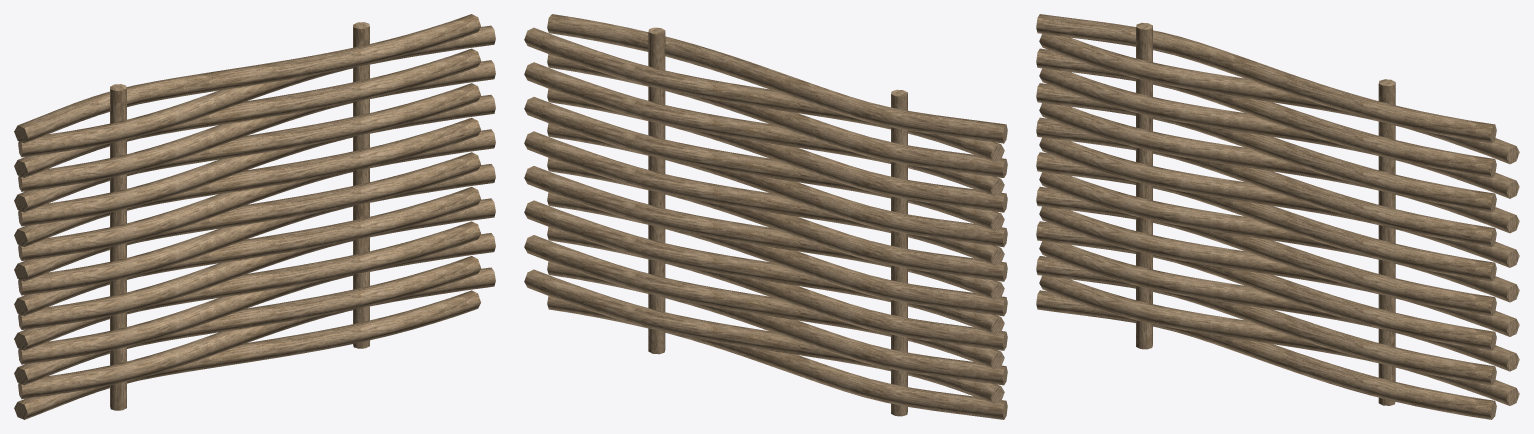
The picture shows the model from 3 angles, left to right: view 1: azimuth 30°, elevation 25°; view 2: azimuth 150°, elevation 25°; view 3: azimuth 330°, elevation 25°; orthographic projection.
Parts seen in each view (by area): view 1: fence3; view 2: fence3; view 3: fence3.
Part boxes in pixels (left/top/right/bottom): fence3: left=14, top=14, right=495, bottom=419; fence3: left=524, top=14, right=1007, bottom=419; fence3: left=1036, top=14, right=1519, bottom=419.
Size of the model in its own units: 1.78 by 1.15 by 0.1757.
1 material, 1 textured.
